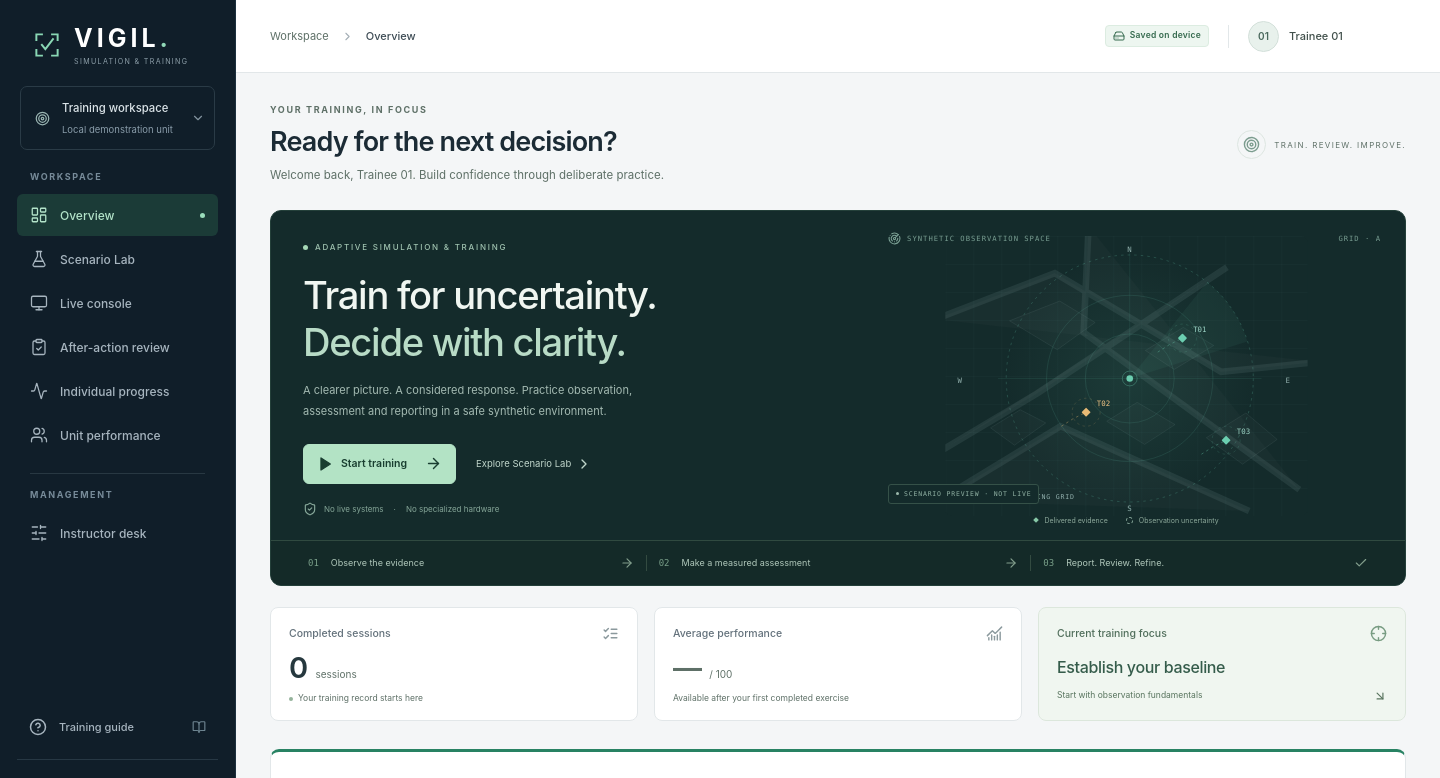
Test: Phase 1 navigation and foundation › navigates to Unit performance and marks the active navigation item
Click the button "Unit performance" at (118, 435), box top-left (17, 414), bottom-right (218, 456)
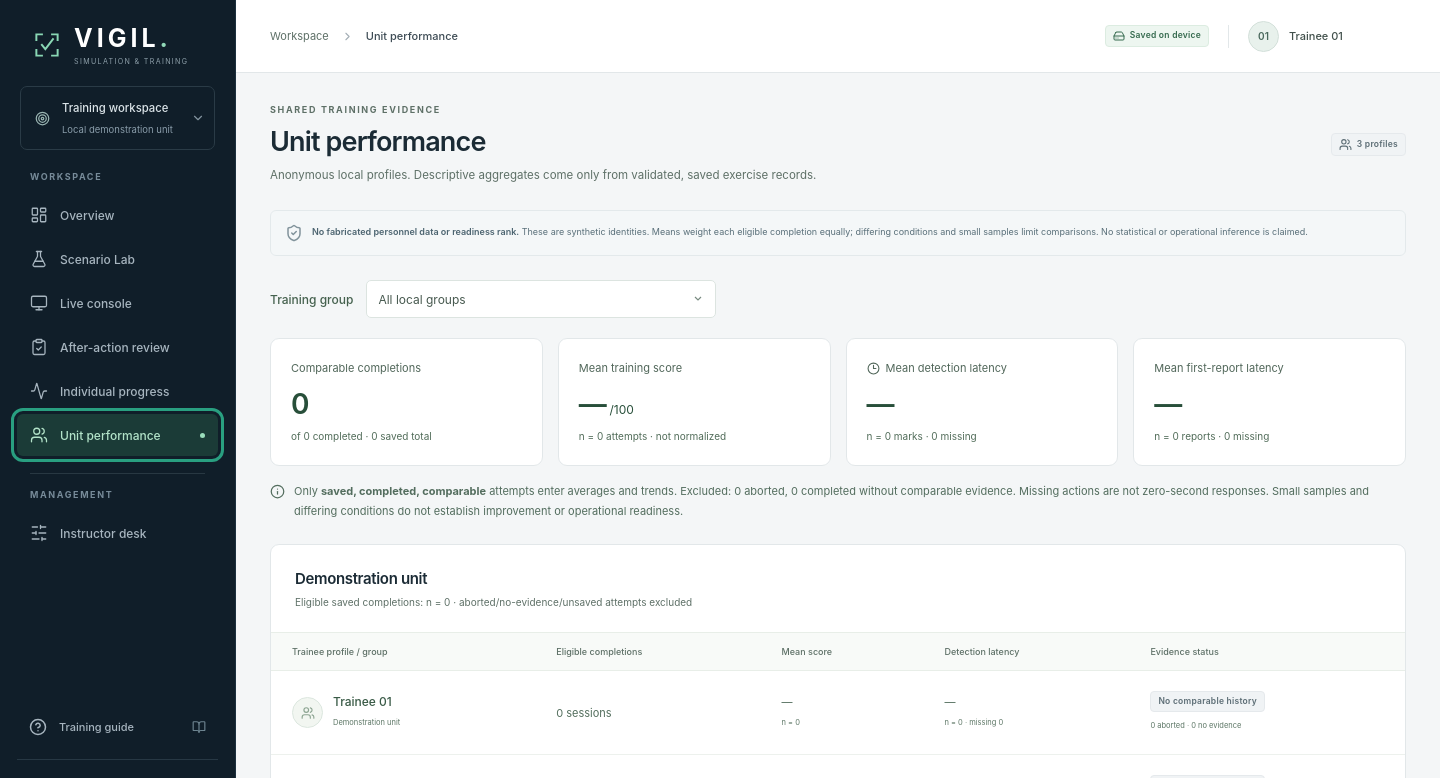
Result: the heading "Unit performance" is shown at top-left (270, 125), bottom-right (486, 158)
